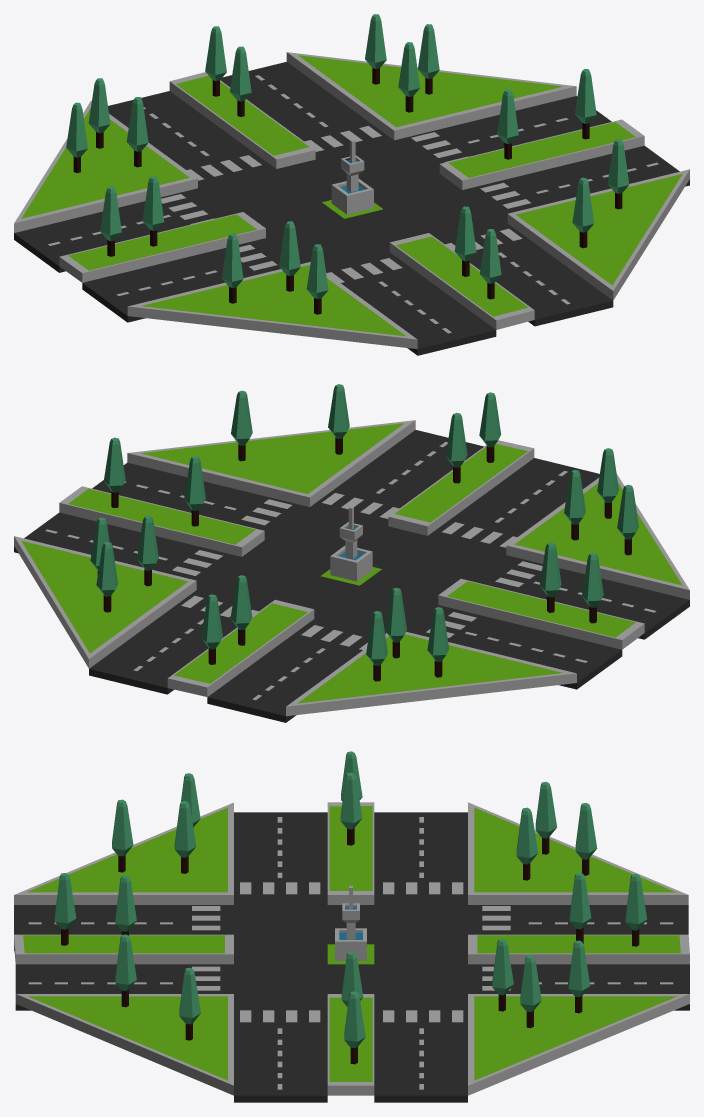
The model's file is Intersection.obj.
3 views of the same model, one above another, from view 1: azimuth 30°, elevation 25°; view 2: azimuth 150°, elevation 25°; view 3: azimuth 270°, elevation 25° (orthographic). The views are drawn at different scales.
Visible parts, largest first — view 1: Cube_Cube.001, Cylinder.015, Cylinder, Cylinder.011, Cylinder.003, Cylinder.014, Cylinder.012, Cylinder.008, Cylinder.007, Cylinder.006, Cylinder.004, Cylinder.002 (+9 smaller); view 2: Cube_Cube.001, Cylinder.013, Cylinder.007, Cylinder.002, Cylinder.014, Cylinder.011, Cylinder.010, Cylinder.005, Cylinder.003, Cylinder, Cylinder.017, Cylinder.009 (+9 smaller); view 3: Cube_Cube.001, Cylinder.010, Cylinder.013, Cylinder.004, Cylinder.008, Cylinder.005, Cylinder.007, Cylinder, Cylinder.018, Cylinder.015, Cylinder.002, Cylinder.016 (+11 smaller).
Part boxes in pixels (x1,y1,x2,y2): Cube_Cube.001: (14,52,689,355); Cylinder.015: (572,177,594,248); Cylinder: (398,42,419,112); Cylinder.011: (221,233,243,303); Cylinder.003: (229,46,251,116); Cylinder.014: (454,206,476,276); Cylinder.012: (306,244,328,314); Cylinder.008: (142,176,164,246); Cylinder.007: (66,102,87,172); Cylinder.006: (88,78,110,148); Cylinder.004: (205,26,226,96); Cylinder.002: (365,14,386,84); Cube_Cube.001: (14,420,689,722); Cylinder.013: (479,392,501,462); Cylinder.007: (427,607,448,677); Cylinder.002: (96,542,118,612); Cylinder.014: (445,412,467,483); Cylinder.011: (617,484,638,555); Cylinder.010: (564,470,585,540); Cylinder.005: (385,587,406,658); Cylinder.003: (230,575,252,645); Cylinder: (137,515,158,586); Cylinder.017: (184,456,205,526); Cylinder.009: (582,552,603,623); Cube_Cube.001: (14,802,689,1102); Cylinder.010: (174,801,196,873); Cylinder.013: (54,873,76,945); Cylinder.004: (625,873,647,946); Cylinder.008: (340,772,362,845); Cylinder.005: (516,807,537,880); Cylinder.007: (535,781,556,854); Cylinder: (492,938,513,1011); Cylinder.018: (344,991,365,1064); Cylinder.015: (115,934,136,1007); Cylinder.002: (568,940,590,1013); Cylinder.016: (179,967,200,1040).
Size of the model in its own units: 15.82 by 2.25 by 15.94.
